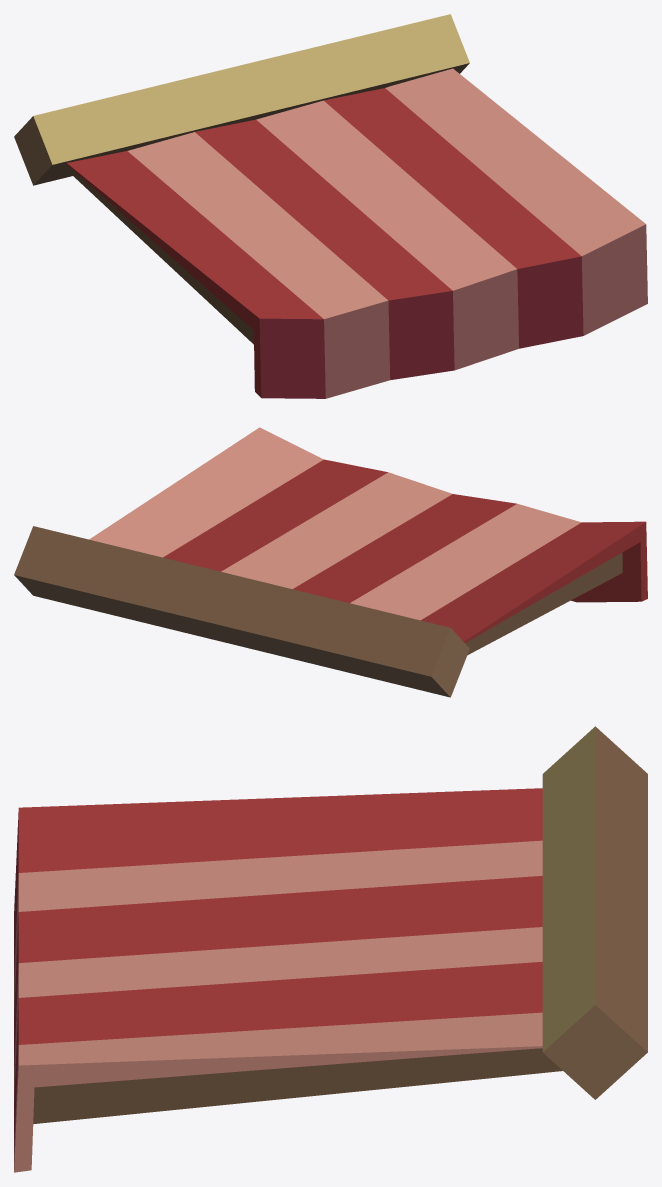
Rendered from TB_D_Bd_Canopy_Str_A.FBX.
3 renders of one model, top to bottom at view 1: azimuth 30°, elevation 25°; view 2: azimuth 150°, elevation 25°; view 3: azimuth 270°, elevation 25°, orthographic. The views are drawn at different scales.
Visible parts, largest first — view 1: TB_D_Bd_Canopy_Str_A; view 2: TB_D_Bd_Canopy_Str_A; view 3: TB_D_Bd_Canopy_Str_A.
Part boxes in pixels (bbox=[...]): TB_D_Bd_Canopy_Str_A: bbox=[14, 14, 647, 398]; TB_D_Bd_Canopy_Str_A: bbox=[14, 427, 647, 697]; TB_D_Bd_Canopy_Str_A: bbox=[14, 726, 647, 1172].
Bounding box in the file's own units: 1.88 × 0.6442 × 1.81.
